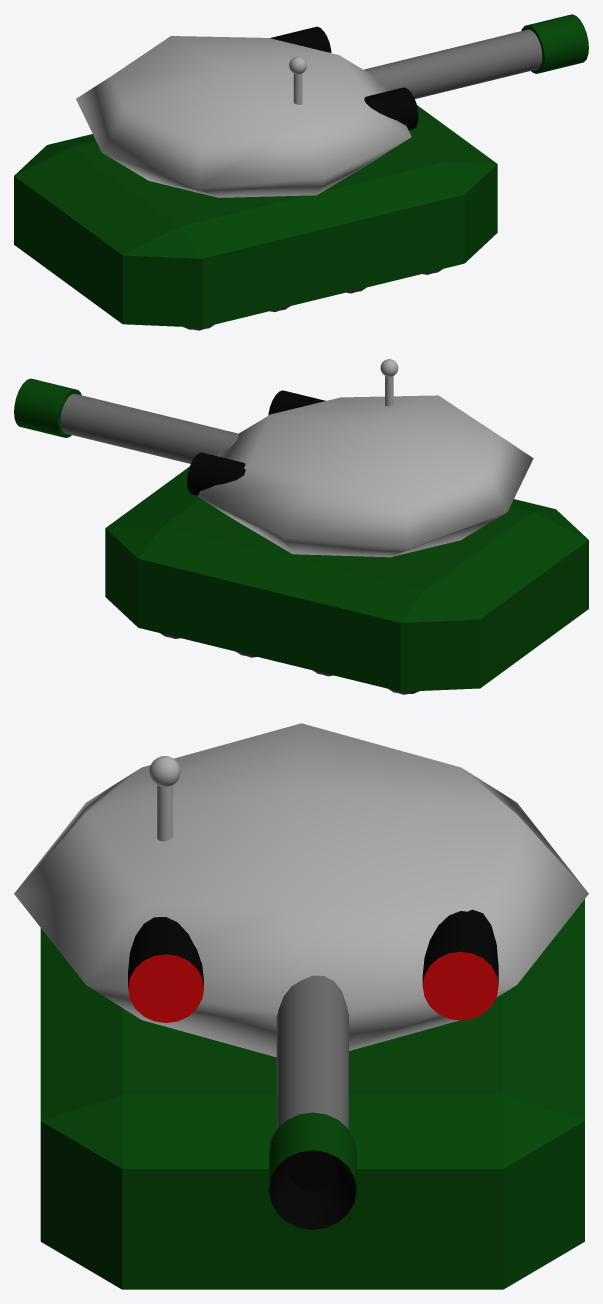
The model's file is RightHeadTurn.fbx.
The picture shows the model from 3 angles, top to bottom: view 1: azimuth 30°, elevation 25°; view 2: azimuth 150°, elevation 25°; view 3: azimuth 270°, elevation 25°; orthographic projection. The views are drawn at different scales.
Parts seen in each view (by area): view 1: polySurface9, pCylinder18; view 2: polySurface9, pCylinder18; view 3: pCylinder18, polySurface9.
Part boxes in pixels (bbox=[...]): polySurface9: bbox=[14, 105, 497, 330]; pCylinder18: bbox=[76, 14, 588, 197]; polySurface9: bbox=[105, 466, 588, 694]; pCylinder18: bbox=[14, 359, 533, 557]; pCylinder18: bbox=[14, 723, 588, 1229]; polySurface9: bbox=[40, 899, 584, 1289].
Size of the model in its own units: 5.1 by 2.27 by 2.85.
